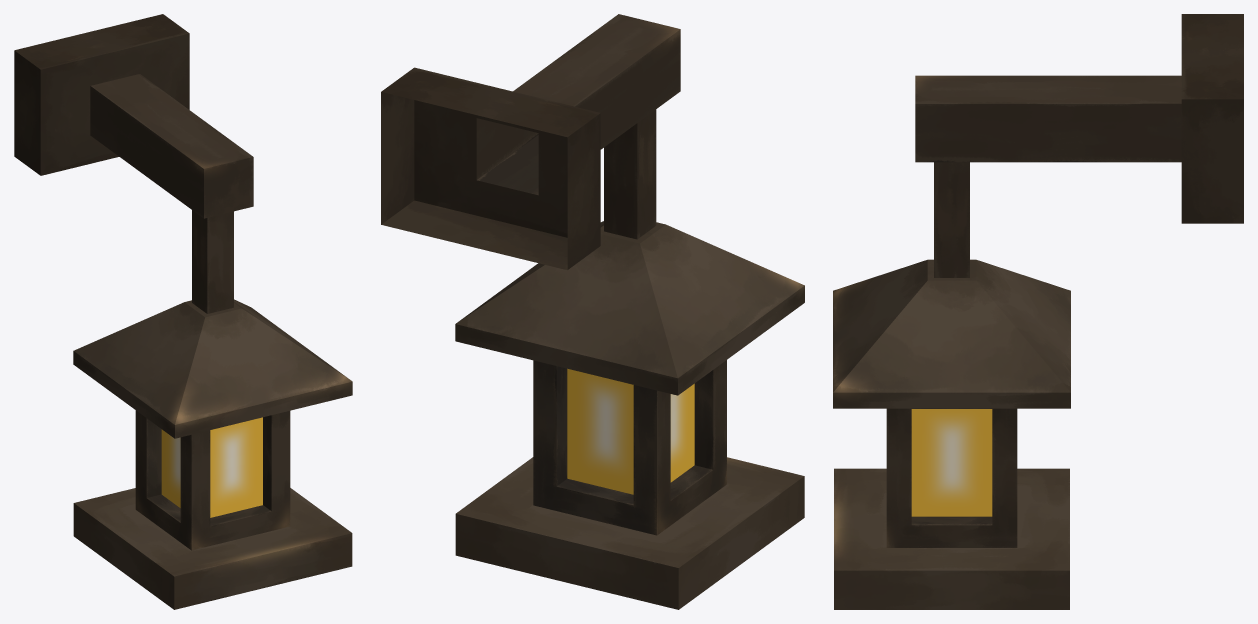
Rendered from Lantern.FBX.
3 renders of one model, left to right at view 1: azimuth 30°, elevation 25°; view 2: azimuth 150°, elevation 25°; view 3: azimuth 270°, elevation 25°, orthographic. The views are drawn at different scales.
Visible parts, largest first — view 1: Lantern; view 2: Lantern; view 3: Lantern.
Boxes of the visible parts, x1=… form: Lantern: x1=14, y1=14, x2=352, y2=609; Lantern: x1=381, y1=14, x2=804, y2=609; Lantern: x1=833, y1=14, x2=1243, y2=609.
Bounding box in the file's own units: 29.34 × 67.38 × 49.94.
